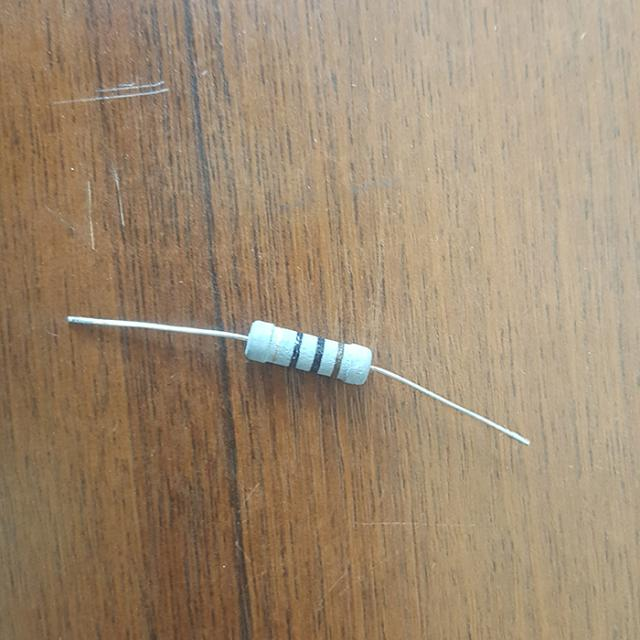black: (309, 337, 324, 372), (288, 333, 302, 368)
brown: (332, 342, 344, 376)
gold: (271, 328, 281, 362)
resistor: (223, 308, 388, 403)
